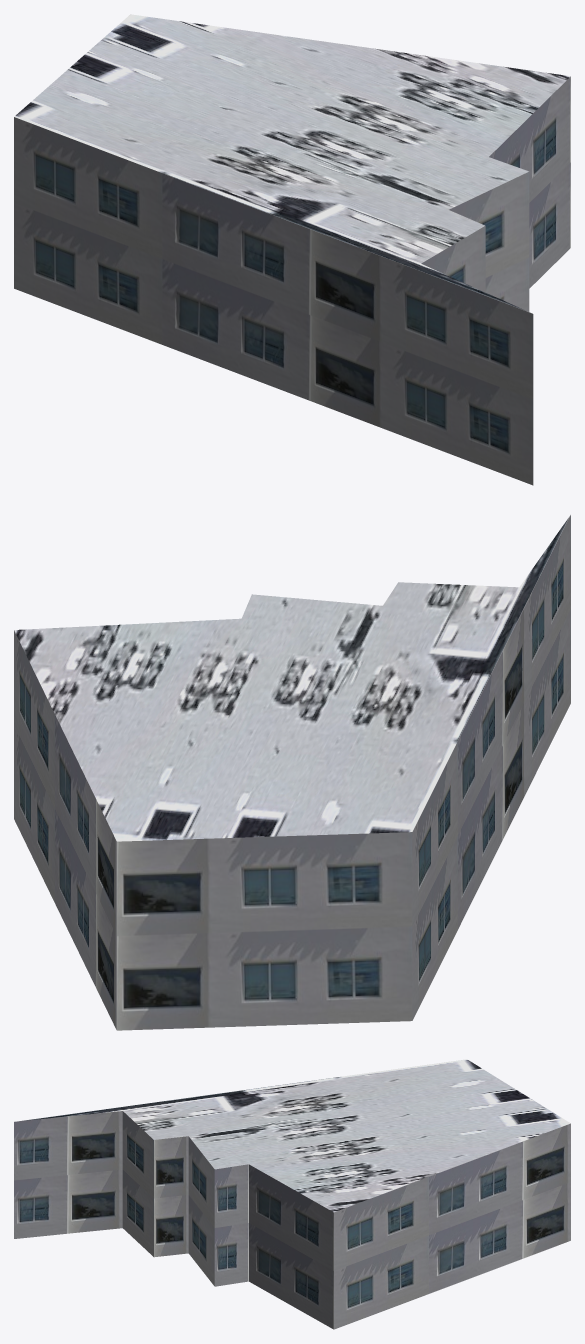
The model's file is ResTex__1729.fbx.
3 renders of one model, top to bottom at view 1: azimuth 30°, elevation 25°; view 2: azimuth 150°, elevation 25°; view 3: azimuth 270°, elevation 25°, orthographic. The views are drawn at different scales.
Visible parts, largest first — view 1: CityEngineMaterial_10_m, CityEngineMaterial_2_m; view 2: CityEngineMaterial_10_m, CityEngineMaterial_2_m; view 3: CityEngineMaterial_10_m, CityEngineMaterial_2_m.
Part boxes in pixels (<box>): CityEngineMaterial_10_m: <box>14,76,570,485</box>; CityEngineMaterial_2_m: <box>14,14,570,312</box>; CityEngineMaterial_10_m: <box>14,515,570,1030</box>; CityEngineMaterial_2_m: <box>14,515,570,841</box>; CityEngineMaterial_10_m: <box>14,1111,570,1329</box>; CityEngineMaterial_2_m: <box>17,1059,570,1212</box>.
Bounding box in the file's own units: 16.8 × 6 × 25.83.
Materials: 2 (2 with a texture image).
